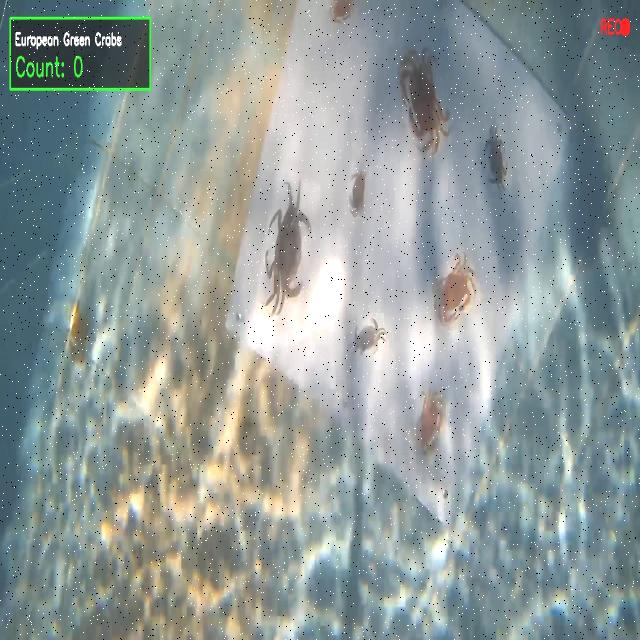European_Green_Crab: (249, 168, 321, 330), (477, 118, 514, 191), (352, 315, 387, 359)
